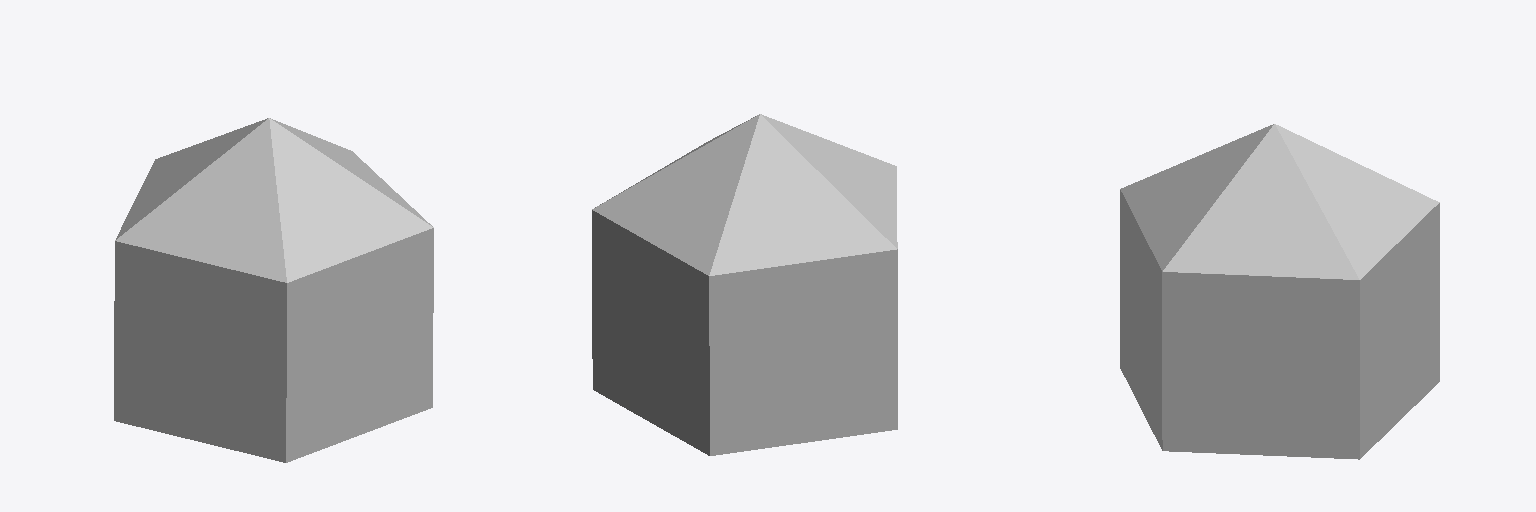
File: ElongatedPentagonalPyramid.obj
3 views of the same model, side by side, from view 1: azimuth 30°, elevation 25°; view 2: azimuth 150°, elevation 25°; view 3: azimuth 270°, elevation 25° (orthographic).
Parts seen in each view (by area): view 1: ElongatedPentagonalPyramid; view 2: ElongatedPentagonalPyramid; view 3: ElongatedPentagonalPyramid.
Boxes of the visible parts, box(x1,y1,x2,y2) form: ElongatedPentagonalPyramid: box(114, 118, 433, 462); ElongatedPentagonalPyramid: box(592, 114, 897, 455); ElongatedPentagonalPyramid: box(1120, 124, 1439, 459).
Size of the model in its own units: 1.19 by 1.15 by 1.21.